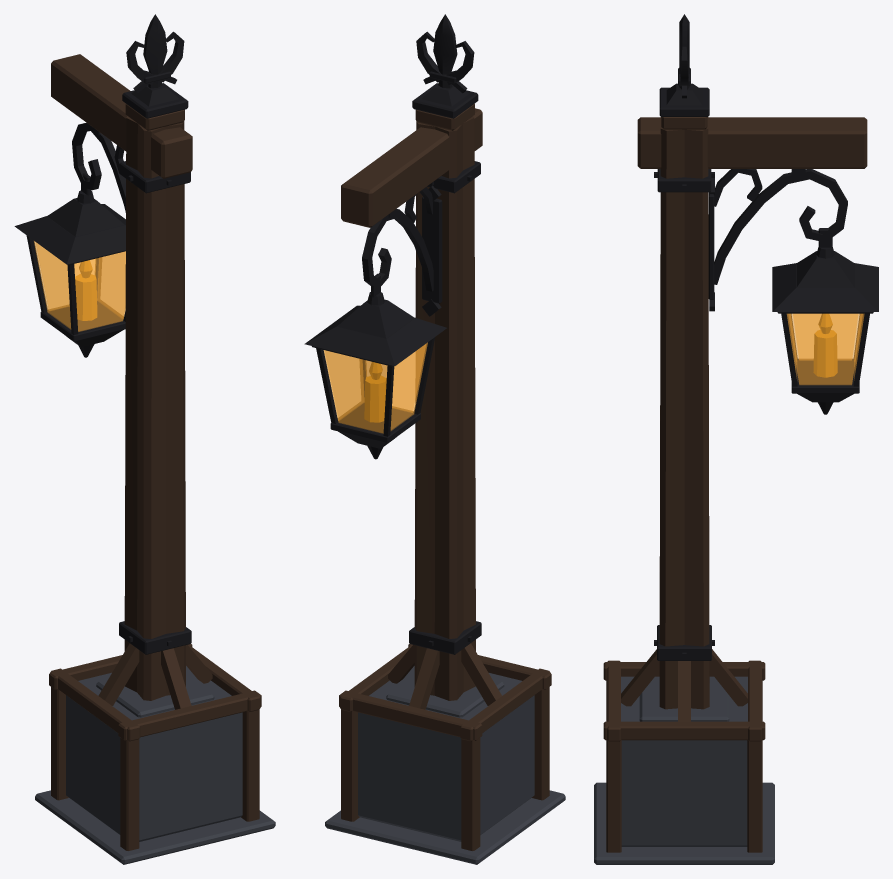
Rendered from GothicLanternPost.fbx.
The picture shows the model from 3 angles, left to right: view 1: azimuth 30°, elevation 25°; view 2: azimuth 150°, elevation 25°; view 3: azimuth 270°, elevation 25°; orthographic projection.
Parts seen in each view (by area): view 1: Lantern_TimberPost, Lantern_StoneBase, Lantern_BaseFrame, Lantern_Cage, Lantern_Ironwork, Lantern_TimberArm, Lantern_Glass, Lantern_CandleCore; view 2: Lantern_TimberPost, Lantern_StoneBase, Lantern_BaseFrame, Lantern_Ironwork, Lantern_Cage, Lantern_TimberArm, Lantern_Glass, Lantern_CandleCore; view 3: Lantern_TimberPost, Lantern_StoneBase, Lantern_BaseFrame, Lantern_TimberArm, Lantern_Cage, Lantern_Ironwork, Lantern_Glass, Lantern_CandleCore.
Part boxes in pixels (x1=…): Lantern_TimberPost: x1=124, y1=104, x2=185, y2=700; Lantern_StoneBase: x1=35, y1=666, x2=275, y2=864; Lantern_BaseFrame: x1=49, y1=643, x2=261, y2=850; Lantern_Cage: x1=14, y1=172, x2=125, y2=357; Lantern_Ironwork: x1=72, y1=14, x2=191, y2=654; Lantern_TimberArm: x1=51, y1=54, x2=192, y2=178; Lantern_Glass: x1=34, y1=241, x2=125, y2=331; Lantern_CandleCore: x1=75, y1=260, x2=96, y2=320; Lantern_TimberPost: x1=414, y1=103, x2=475, y2=700; Lantern_StoneBase: x1=325, y1=666, x2=565, y2=864; Lantern_BaseFrame: x1=339, y1=643, x2=551, y2=850; Lantern_Ironwork: x1=362, y1=14, x2=481, y2=654; Lantern_Cage: x1=304, y1=273, x2=446, y2=459; Lantern_TimberArm: x1=341, y1=108, x2=482, y2=227; Lantern_Glass: x1=323, y1=342, x2=427, y2=433; Lantern_CandleCore: x1=364, y1=362, x2=386, y2=422; Lantern_TimberPost: x1=659, y1=117, x2=709, y2=709; Lantern_StoneBase: x1=594, y1=676, x2=774, y2=864; Lantern_BaseFrame: x1=603, y1=649, x2=765, y2=852; Lantern_TimberArm: x1=637, y1=117, x2=867, y2=168; Lantern_Cage: x1=772, y1=228, x2=878, y2=414; Lantern_Ironwork: x1=654, y1=14, x2=847, y2=660; Lantern_Glass: x1=787, y1=313, x2=864, y2=384; Lantern_CandleCore: x1=813, y1=314, x2=837, y2=377.
Bounding box in the file's own units: 2.82 × 14 × 4.44.
